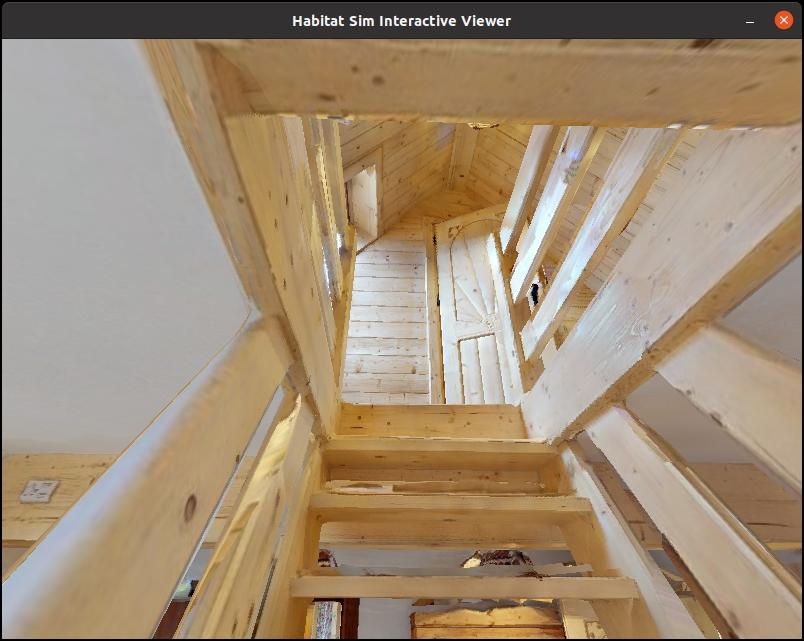stairs: (183, 251, 732, 641)
